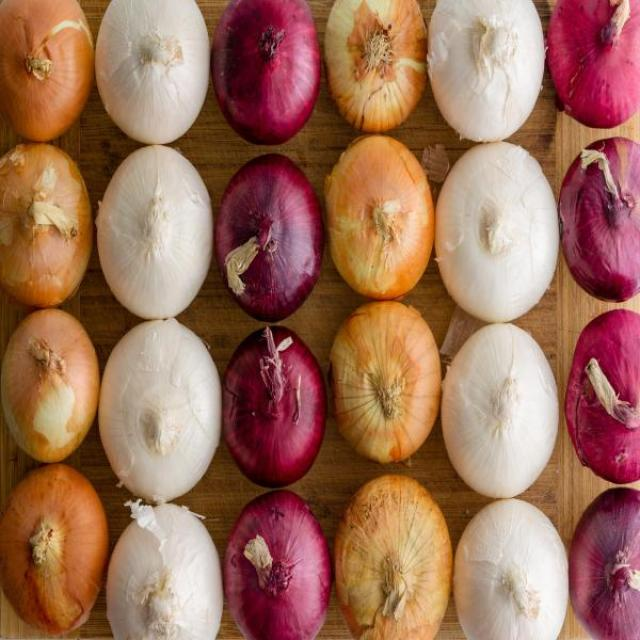Onion: (433, 140, 560, 323), (98, 316, 222, 503), (440, 322, 559, 498), (95, 143, 213, 320), (333, 473, 453, 640), (326, 299, 442, 465), (0, 462, 109, 636), (214, 152, 325, 322), (324, 133, 435, 300), (221, 324, 328, 489), (426, 0, 546, 143), (94, 0, 210, 145), (105, 498, 224, 639), (222, 489, 332, 640), (452, 498, 569, 638), (210, 0, 320, 145), (0, 307, 100, 463), (0, 141, 93, 308), (323, 0, 427, 133), (558, 135, 640, 302), (0, 0, 95, 142), (565, 307, 639, 483), (546, 0, 640, 128), (568, 486, 639, 639)
